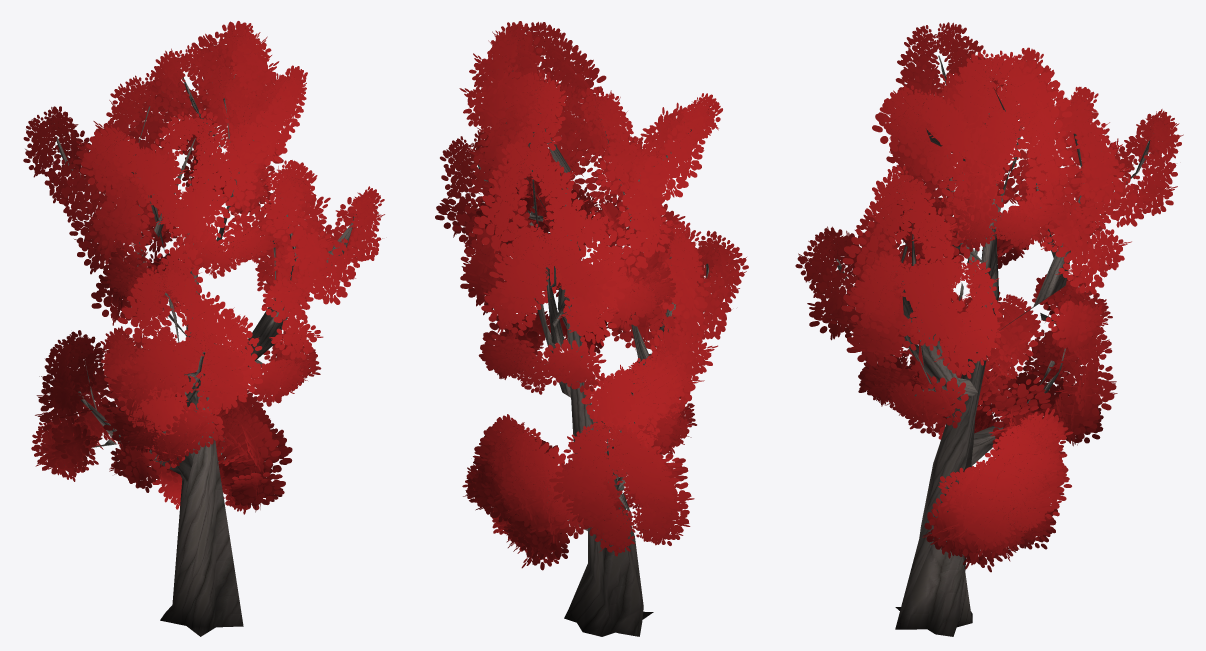
The model's file is TwistedTree_4@lod.gltf.
3 renders of one model, left to right at view 1: azimuth 30°, elevation 25°; view 2: azimuth 150°, elevation 25°; view 3: azimuth 270°, elevation 25°, orthographic. The views are drawn at different scales.
Parts seen in each view (by area): view 1: TwistedTree_4; view 2: TwistedTree_4; view 3: TwistedTree_4.
Boxes of the visible parts, x1,y1,x2,y2 form: TwistedTree_4: [23, 21, 384, 636]; TwistedTree_4: [435, 21, 748, 636]; TwistedTree_4: [795, 22, 1183, 636].
Bounding box in the file's own units: 10.38 × 18.74 × 11.29.
Materials: 2 (2 with a texture image).
